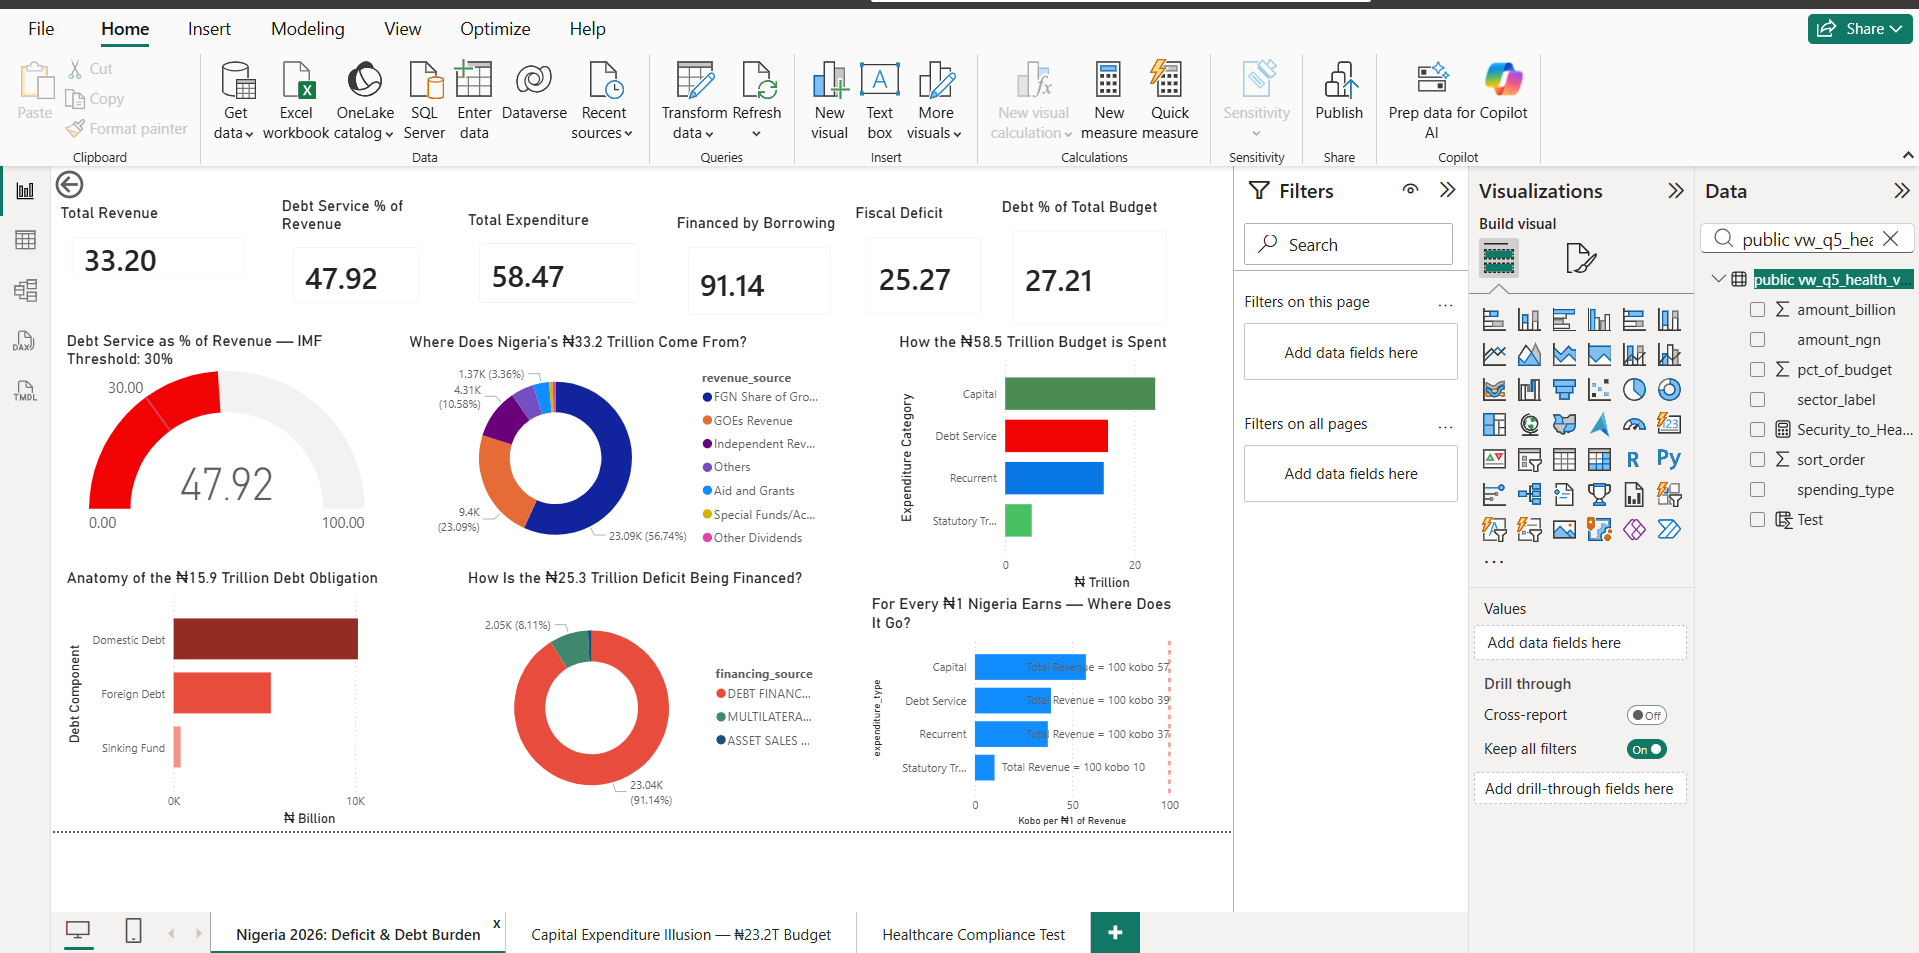

The page's visual inventory and layout, read from the dashboard file:
{"tool":"powerbi","page":{"name":"Nigeria 2026: Deficit & Debt Burden","canvas":[1280,720],"ordinal":0},"visuals":[{"type":"cardVisual","title":"Total Expenditure","fields":{"Data":["Sum(public vw_q1_fiscal_position.expenditure_trillion)"]},"box":[446.6,47.4,207.1,119.1],"z":1},{"type":"cardVisual","title":"Fiscal Deficit","fields":{"Data":["Sum(public vw_q1_fiscal_position.deficit_trillion)"]},"box":[866.1,40.6,158.3,138],"z":2},{"type":"cardVisual","title":"Debt Service % of Revenue","fields":{"Data":["Sum(public vw_q1_fiscal_position.debt_svc_pct_of_revenue)"]},"box":[245,32.5,171.9,134],"z":3},{"type":"cardVisual","title":"Financed by Borrowing","fields":{"Data":["Sum(public vw_q1_fiscal_position.borrowing_pct_of_financing)"]},"box":[672.6,51.4,189.5,127.2],"z":4},{"type":"cardVisual","title":"Debt % of Total Budget","fields":{"Data":["Sum(public vw_q1_fiscal_position.debt_svc_pct_of_expenditure)"]},"box":[1024.5,33.8,201.7,154.3],"z":5},{"type":"gauge","title":"Debt Service as % of Revenue — IMF Threshold: 30%","fields":{"Y":["Sum(public vw_q1_fiscal_position.debt_svc_pct_of_revenue)"],"TargetValue":["Sum(public vw_q1_fiscal_position.imf_debt_threshold_pct)"]},"box":[12.3,178.4,356.8,229.2],"z":6},{"type":"donutChart","title":"Where Does Nigeria''s ₦33.2 Trillion Come From?","fields":{"Y":["Sum(public vw_q1_revenue_sources.amount_billion)"],"Category":["public vw_q1_revenue_sources.revenue_source"]},"box":[382.8,178.4,463.8,256.6],"z":7},{"type":"clusteredBarChart","title":"How the ₦58.5 Trillion Budget is Spent","fields":{"Category":["public vw_q1_expenditure_summary.expenditure_type"],"Y":["Sum(public vw_q1_expenditure_summary.amount_trillion)"]},"box":[913.9,178.4,341.7,285.4],"z":8},{"type":"clusteredBarChart","title":"Anatomy of the ₦15.9 Trillion Debt Obligation","fields":{"Category":["public vw_q1_debt_composition.debt_component"],"Y":["Sum(public vw_q1_debt_composition.amount_billion)"]},"box":[12.2,434.4,430.4,285.6],"z":9},{"type":"donutChart","title":"How Is the ₦25.3 Trillion Deficit Being Financed?","fields":{"Category":["public vw_q1_financing_breakdown.financing_source"],"Y":["Sum(public vw_q1_financing_breakdown.amount_billion)"]},"box":[446.6,434.4,393.8,285.6],"z":10},{"type":"actionButton","box":[0,0,100,40],"z":12},{"type":"clusteredBarChart","title":"For Every ₦1 Nigeria Earns — Where Does It Go?","fields":{"Category":["public vw_q1_kobo_per_naira.expenditure_type"],"Y":["Sum(public vw_q1_kobo_per_naira.kobo_per_naira)"]},"box":[883.7,462.8,342.4,257.1],"z":13},{"type":"cardVisual","title":"Total Revenue","fields":{"Data":["Sum(public vw_q1_fiscal_position.revenue_trillion)"]},"box":[5.4,40.6,222,98.8],"z":14}]}

Visuals, with their boxes on the page's 1280x720 design canvas (x1, y1, x2, y2). These are canvas units, not pixel positions in the 1919x953 screenshot, which may show the page scaled, cropped or inside an application window:
"Total Expenditure" cardVisual: bbox=(447, 47, 654, 166)
"Fiscal Deficit" cardVisual: bbox=(866, 41, 1024, 179)
"Debt Service % of Revenue" cardVisual: bbox=(245, 32, 417, 166)
"Financed by Borrowing" cardVisual: bbox=(673, 51, 862, 179)
"Debt % of Total Budget" cardVisual: bbox=(1024, 34, 1226, 188)
"Debt Service as % of Revenue — IMF Threshold: 30%" gauge: bbox=(12, 178, 369, 408)
"Where Does Nigeria''s ₦33.2 Trillion Come From?" donutChart: bbox=(383, 178, 847, 435)
"How the ₦58.5 Trillion Budget is Spent" clusteredBarChart: bbox=(914, 178, 1256, 464)
"Anatomy of the ₦15.9 Trillion Debt Obligation" clusteredBarChart: bbox=(12, 434, 443, 720)
"How Is the ₦25.3 Trillion Deficit Being Financed?" donutChart: bbox=(447, 434, 840, 720)
actionButton: bbox=(0, 0, 100, 40)
"For Every ₦1 Nigeria Earns — Where Does It Go?" clusteredBarChart: bbox=(884, 463, 1226, 720)
"Total Revenue" cardVisual: bbox=(5, 41, 227, 139)
